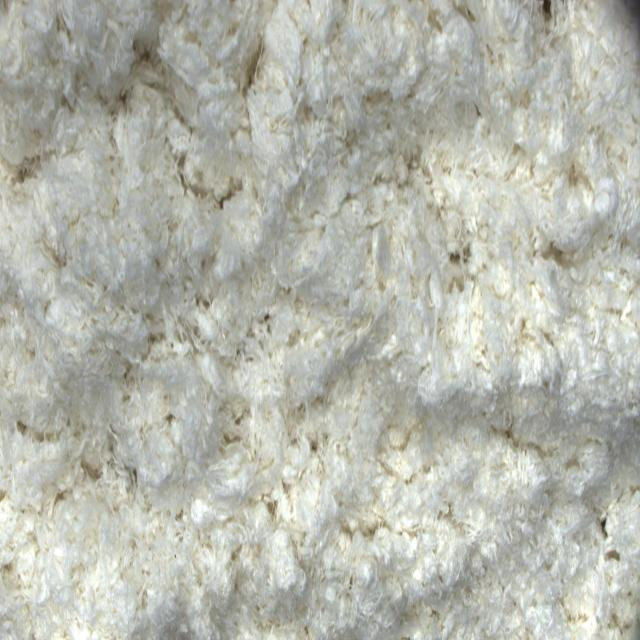dust: (546, 2, 558, 27)
